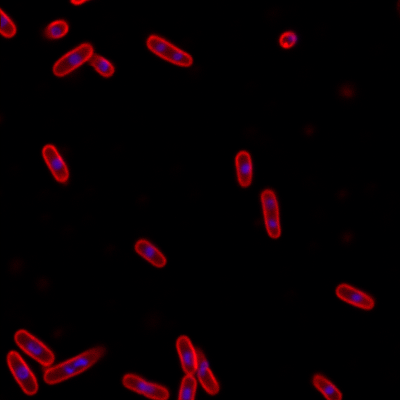CAM: (145, 33, 193, 69), (13, 328, 55, 367), (176, 334, 198, 400), (52, 42, 93, 77), (6, 351, 38, 395), (122, 373, 169, 400), (42, 143, 70, 184), (260, 188, 282, 240), (335, 282, 375, 310), (132, 239, 167, 271), (235, 149, 253, 189)
Oblique: (43, 349, 98, 387), (195, 350, 219, 395), (311, 373, 344, 400), (88, 52, 116, 79), (43, 21, 70, 40), (279, 30, 299, 50)
